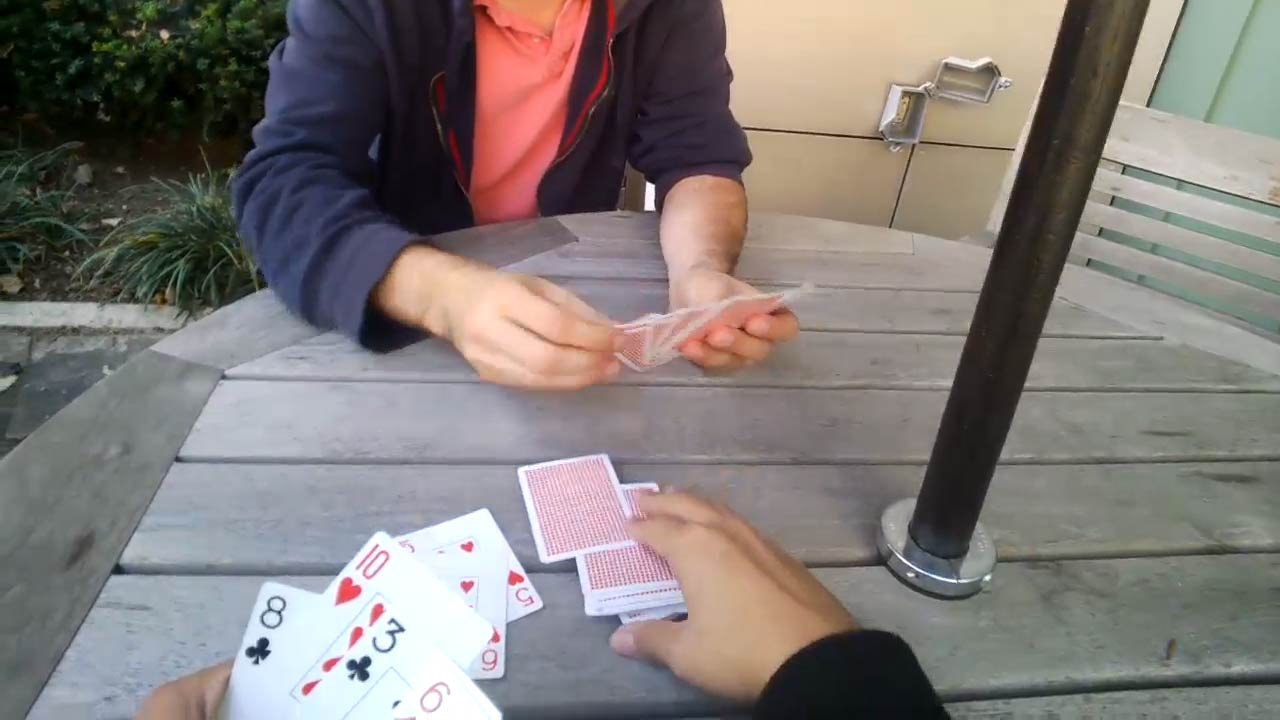hand: (623, 494, 846, 699), (456, 274, 624, 386), (665, 273, 794, 374), (140, 661, 239, 717)
